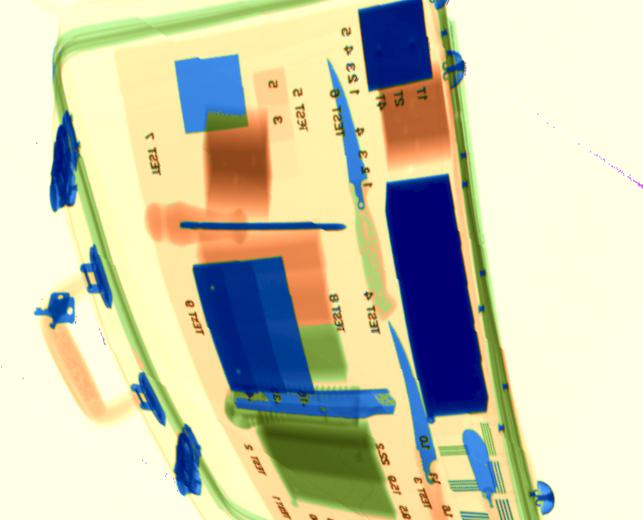Knife: (387, 320, 441, 495), (325, 57, 374, 218), (460, 429, 503, 520)
